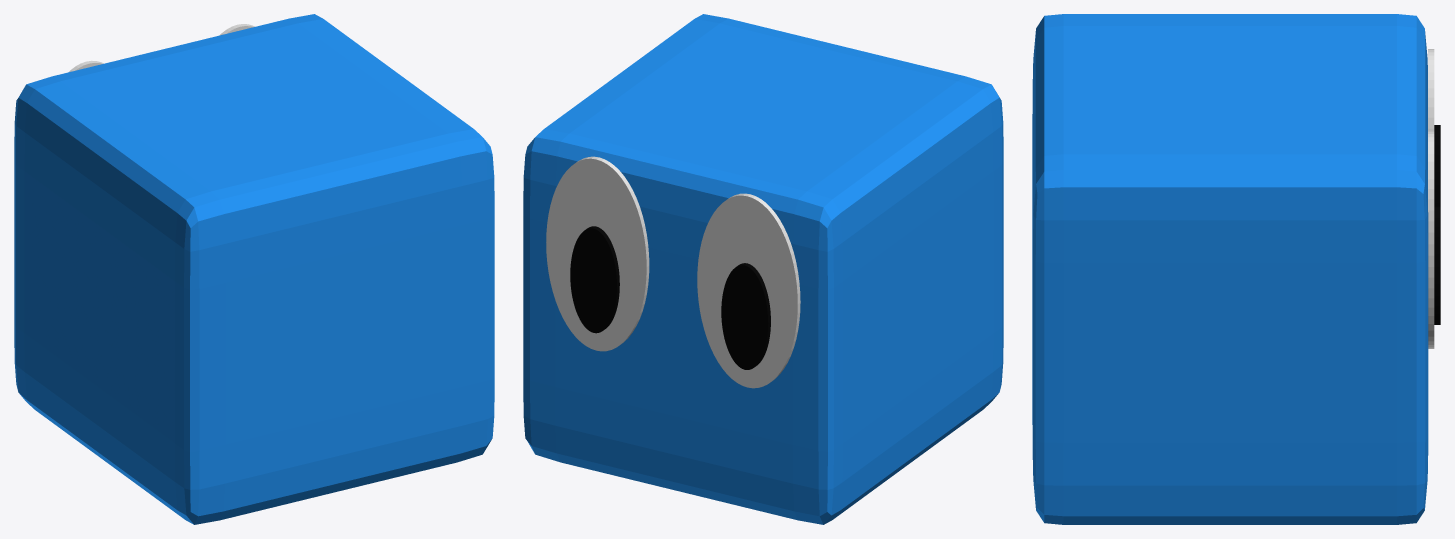
The model's file is player-blue.glb.
3 renders of one model, left to right at view 1: azimuth 30°, elevation 25°; view 2: azimuth 150°, elevation 25°; view 3: azimuth 270°, elevation 25°, orthographic. The views are drawn at different scales.
Parts seen in each view (by area): view 1: player-body; view 2: player-body, player-eye-right-white, player-eye-right-white.001, player-eye-right-black, player-eye-right-black.001; view 3: player-body, player-eye-right-white, player-eye-right-black, player-eye-right-black.001, player-eye-right-white.001.
Boxes of the visible parts, x1,y1,x2,y2 form: player-body: (14, 14, 494, 524); player-body: (523, 14, 1003, 524); player-eye-right-white: (546, 156, 649, 351); player-eye-right-white.001: (697, 193, 800, 388); player-eye-right-black: (570, 226, 619, 333); player-eye-right-black.001: (721, 263, 770, 369); player-body: (1032, 14, 1428, 524); player-eye-right-white: (1428, 130, 1434, 348); player-eye-right-black: (1434, 206, 1440, 324); player-eye-right-black.001: (1434, 125, 1440, 206); player-eye-right-white.001: (1428, 49, 1434, 130).
Size of the model in its own units: 0.4 by 0.4 by 0.4122.
